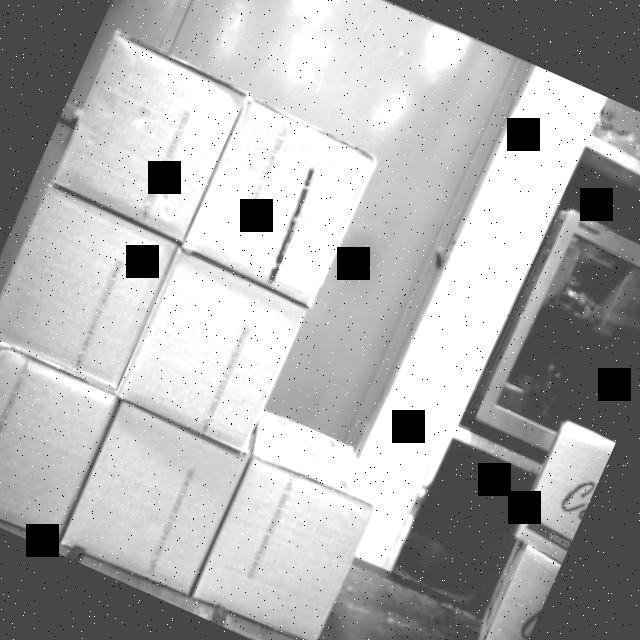box: (175, 407, 399, 640), (176, 90, 388, 316), (47, 28, 253, 248), (113, 247, 314, 459), (52, 398, 251, 606), (0, 184, 181, 397), (0, 336, 122, 549)
